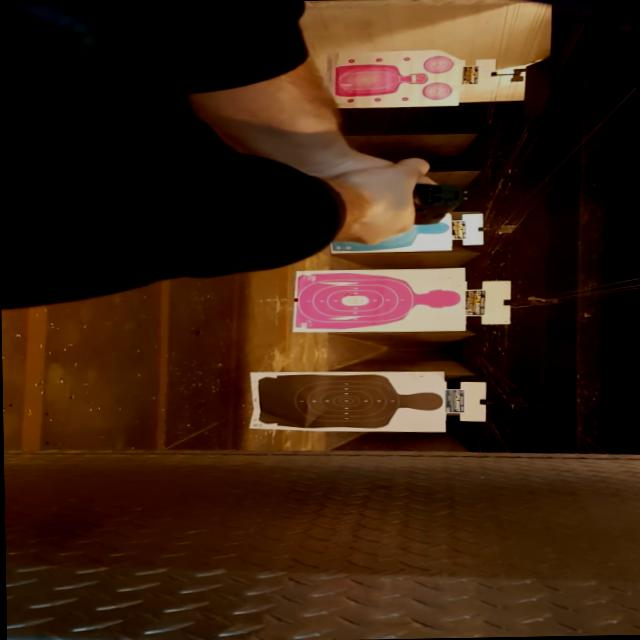handgun: (356, 172, 470, 234)
